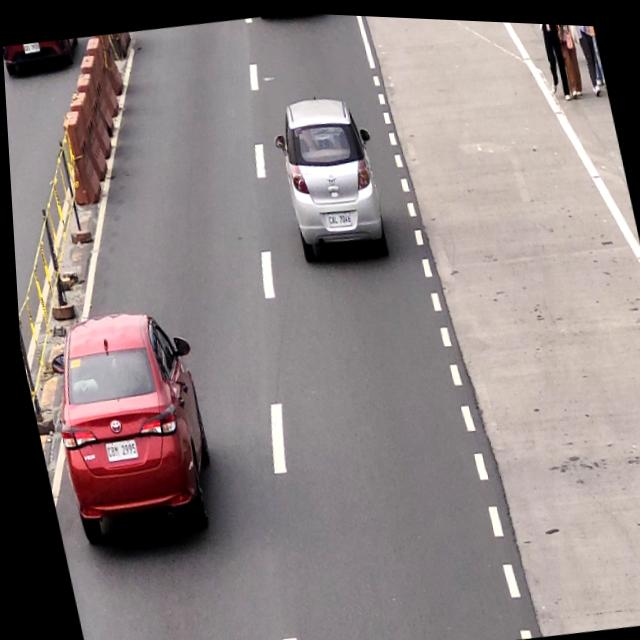Car: (33, 302, 225, 560), (269, 88, 391, 259)
License-Plate: (98, 435, 134, 464), (325, 206, 351, 226)
